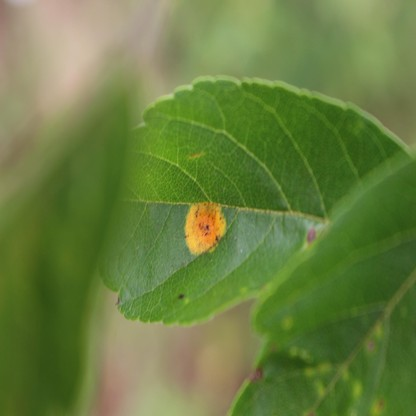frogeye_leaf_spot: (306, 228, 316, 245)
rust: (185, 203, 226, 254)
